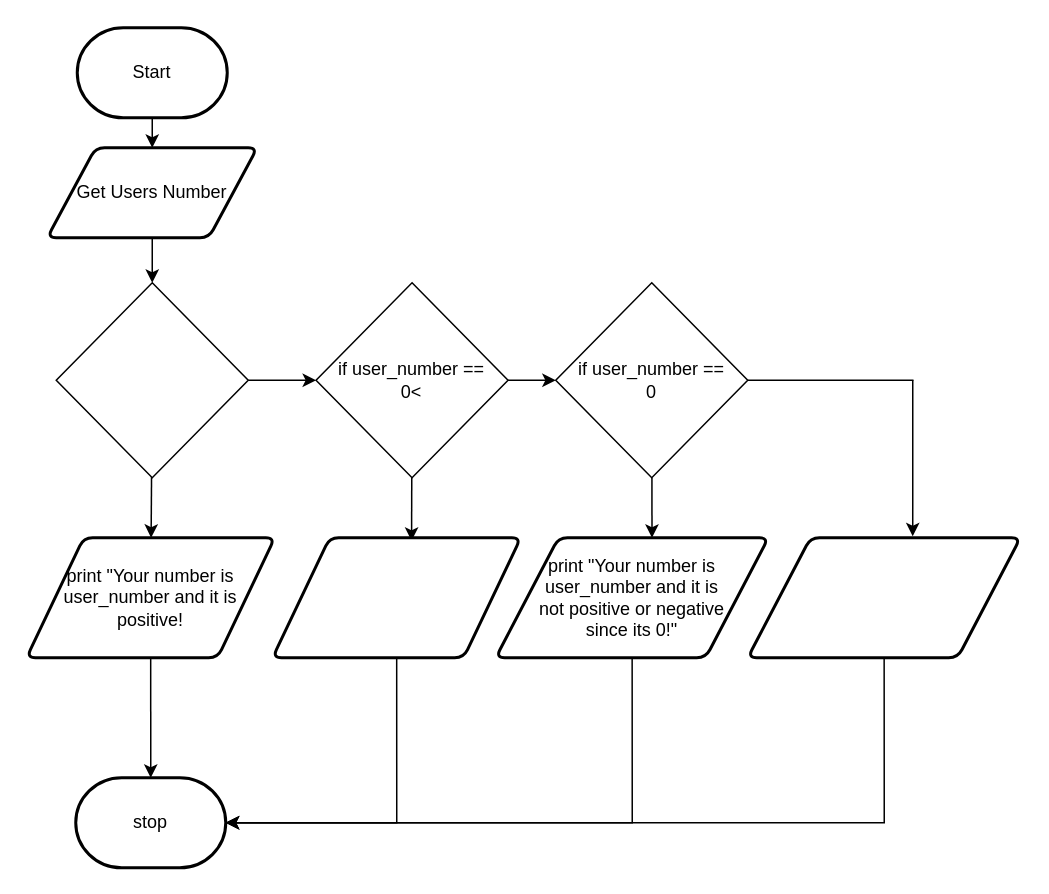
Some shapes in this 1049 by 894 pixel diagram are drawn without their labels. The box of each missing label's shape, as (x1, y1, x2, y2) in pixels:
If user_number == 0>: (55, 281, 248, 478)
print "Are you sure you put a valid number in?": (746, 536, 1021, 658)
print "Your number is user_number and it is negative!": (270, 536, 522, 658)
